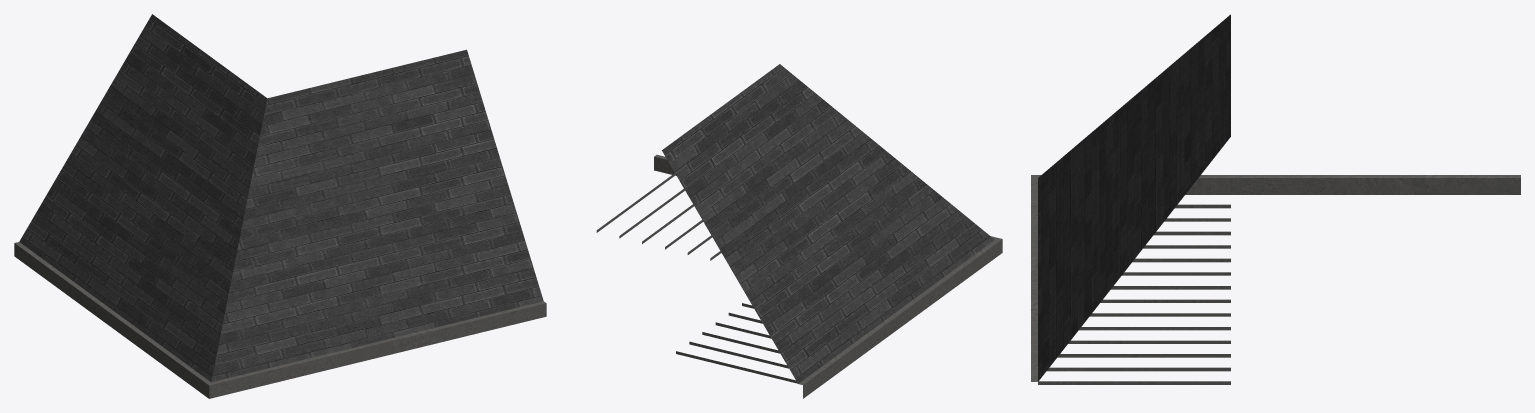
File: Sm_Roof01d03.glb
The picture shows the model from 3 angles, left to right: view 1: azimuth 30°, elevation 25°; view 2: azimuth 150°, elevation 25°; view 3: azimuth 270°, elevation 25°; orthographic projection. The views are drawn at different scales.
Visible parts, largest first — view 1: Sm_Roof01d03; view 2: Sm_Roof01d03; view 3: Sm_Roof01d03.
Boxes of the visible parts, box(x1,y1,x2,y2) form: Sm_Roof01d03: box(14, 14, 546, 398); Sm_Roof01d03: box(596, 64, 1002, 398); Sm_Roof01d03: box(1031, 14, 1520, 384).
Size of the model in its own units: 254 by 150 by 254.
Materials: 2 (2 with a texture image).
